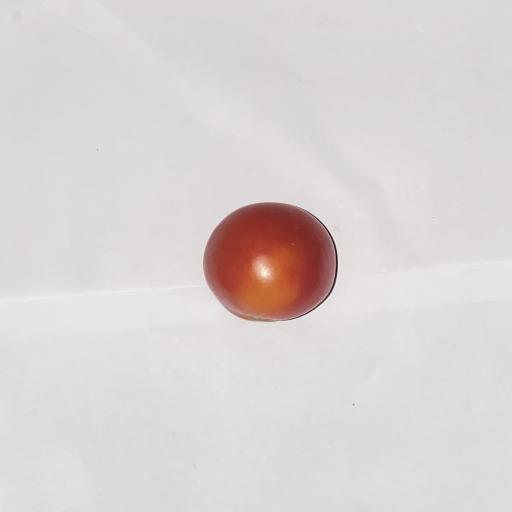ripe: (203, 203, 337, 321)
